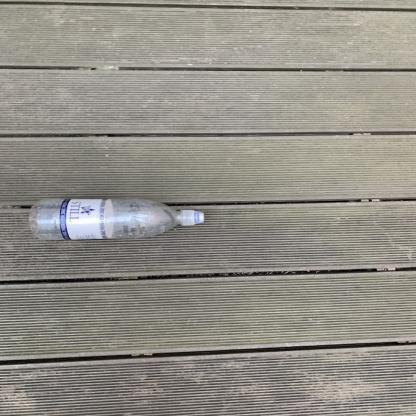trash: (28, 192, 204, 242)
